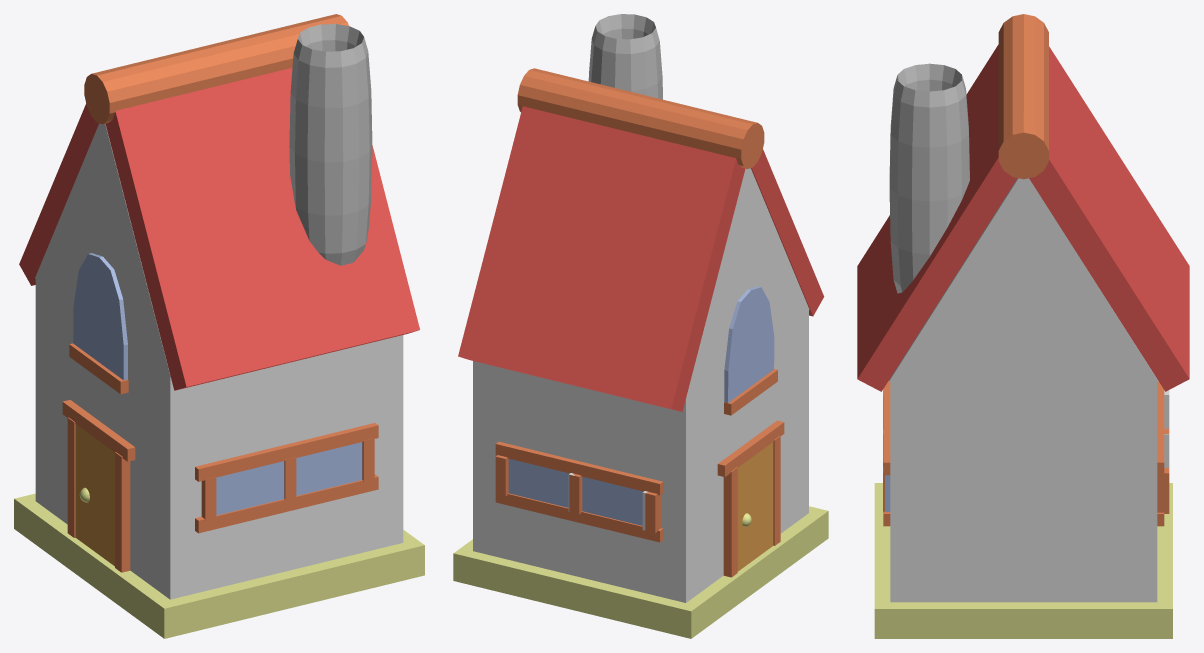
The model's file is nur_haus.fbx.
3 views of the same model, side by side, from view 1: azimuth 30°, elevation 25°; view 2: azimuth 150°, elevation 25°; view 3: azimuth 270°, elevation 25° (orthographic). The views are drawn at different scales.
Visible parts, largest first — view 1: Cylinder, Cube.002, Torus, Cube.003, Cylinder.001, Cube.007, Cylinder.002, Cube.006, Cube.001, Cube.011, Cube.010, Cube.004 (+4 smaller); view 2: Cube.001, Cylinder, Cube.003, Cylinder.001, Torus, Cube.007, Cylinder.002, Cube.006, Cube.002, Cube.008, Cube.009, Cube.005 (+6 smaller); view 3: Cylinder, Cube.001, Cube.002, Torus, Cube.003, Cylinder.001, Cube.011, Cube.008, Cube.014.
Boxes of the visible parts, <box> form: Cylinder: <box>35,123,403,599</box>; Cube.002: <box>105,67,419,390</box>; Torus: <box>289,24,372,265</box>; Cube.003: <box>14,493,424,638</box>; Cylinder.001: <box>84,14,348,124</box>; Cube.007: <box>216,442,362,515</box>; Cylinder.002: <box>73,253,127,380</box>; Cube.006: <box>75,424,114,566</box>; Cube.001: <box>19,103,98,285</box>; Cube.011: <box>195,423,378,481</box>; Cube.010: <box>195,474,378,533</box>; Cube.004: <box>115,452,130,572</box>; Cube.001: <box>458,106,745,411</box>; Cylinder: <box>473,168,809,602</box>; Cube.003: <box>453,506,828,638</box>; Cylinder.001: <box>517,68,764,168</box>; Torus: <box>588,14,662,99</box>; Cube.007: <box>508,458,643,525</box>; Cylinder.002: <box>724,286,774,402</box>; Cube.006: <box>737,442,773,571</box>; Cube.002: <box>751,149,824,316</box>; Cube.008: <box>495,441,663,495</box>; Cube.009: <box>495,493,663,542</box>; Cube.005: <box>723,467,737,577</box>; Cylinder: <box>889,178,1158,602</box>; Cube.001: <box>1029,46,1189,391</box>; Cube.002: <box>857,44,1017,391</box>; Torus: <box>889,63,969,293</box>; Cube.003: <box>874,483,1172,638</box>; Cylinder.001: <box>998,14,1048,179</box>; Cube.011: <box>883,381,890,475</box>; Cube.008: <box>1157,381,1164,475</box>; Cube.014: <box>1157,468,1169,513</box>.
Bounding box in the file's own units: 22.32 × 43.7 × 24.87.
